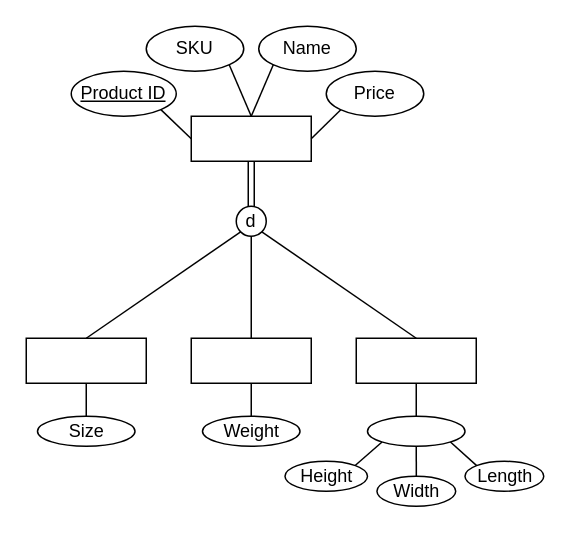
The diagram is 570 pixels wide and 533 high, and some of its shapes have lost their labels. Each missing label, with the centre of its shape:
Book: the point at 250,360
Dimensions: the point at 415,430
DVD Disc: the point at 85,360
Furniture: the point at 415,360
Product: the point at 250,138
